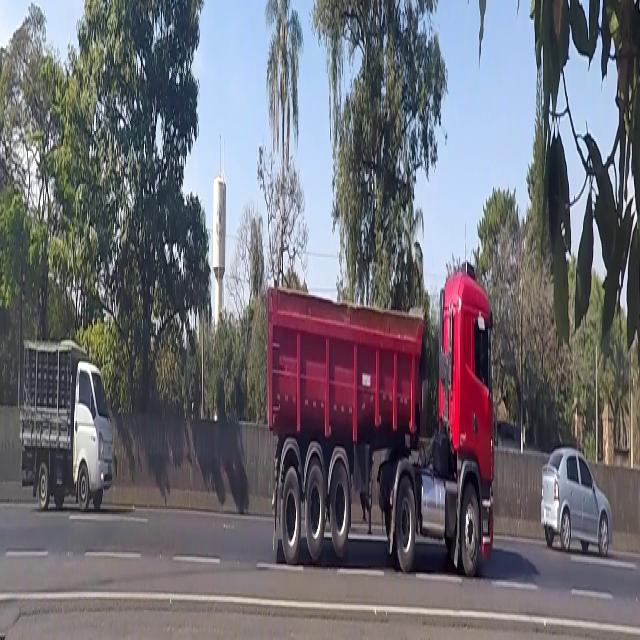-axle: (281, 462, 302, 573), (459, 474, 481, 578), (330, 448, 350, 556), (394, 479, 416, 573), (305, 462, 323, 564)
